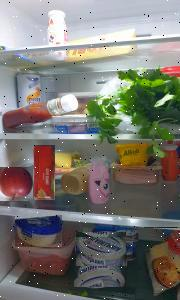Manzana: (0, 167, 33, 201)
Queso: (144, 228, 180, 296)
